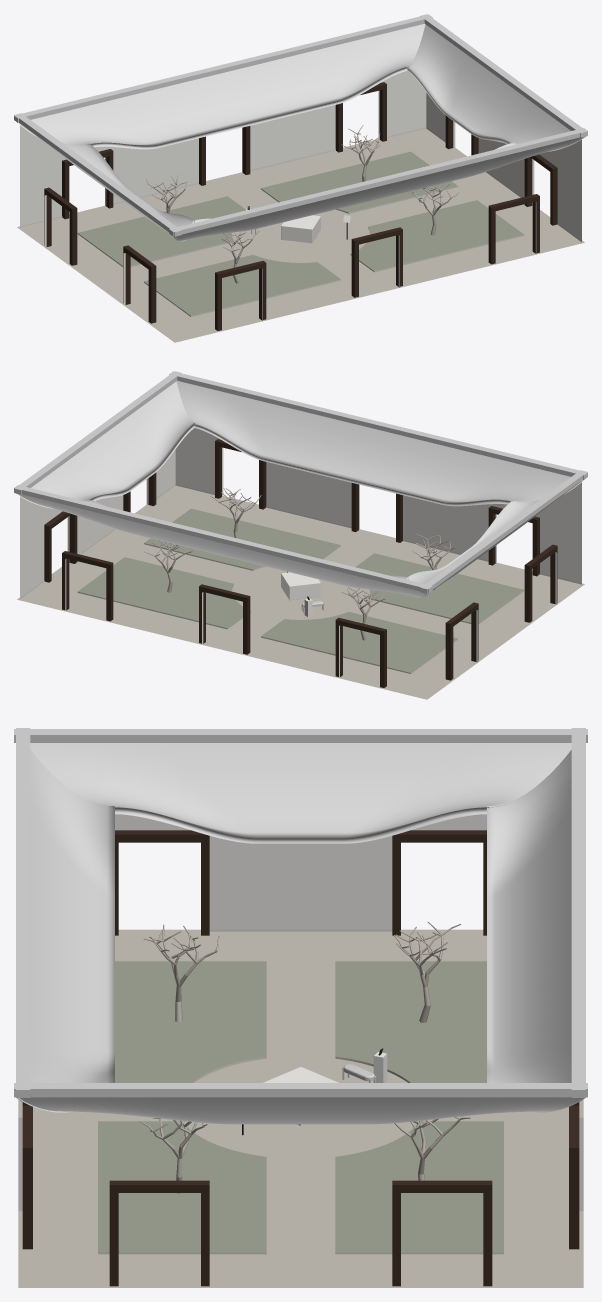
Rendered from atrium.glb.
3 views of the same model, one above another, from view 1: azimuth 30°, elevation 25°; view 2: azimuth 150°, elevation 25°; view 3: azimuth 270°, elevation 25° (orthographic). The views are drawn at different scales.
Parts seen in each view (by area): view 1: atrium_arch; view 2: atrium_arch; view 3: atrium_arch.
Part boxes in pixels (x1=…): atrium_arch: x1=14, y1=14, x2=587, y2=342; atrium_arch: x1=14, y1=371, x2=587, y2=699; atrium_arch: x1=14, y1=728, x2=587, y2=1287.
Size of the model in its own units: 24.98 by 6.43 by 16.74.
